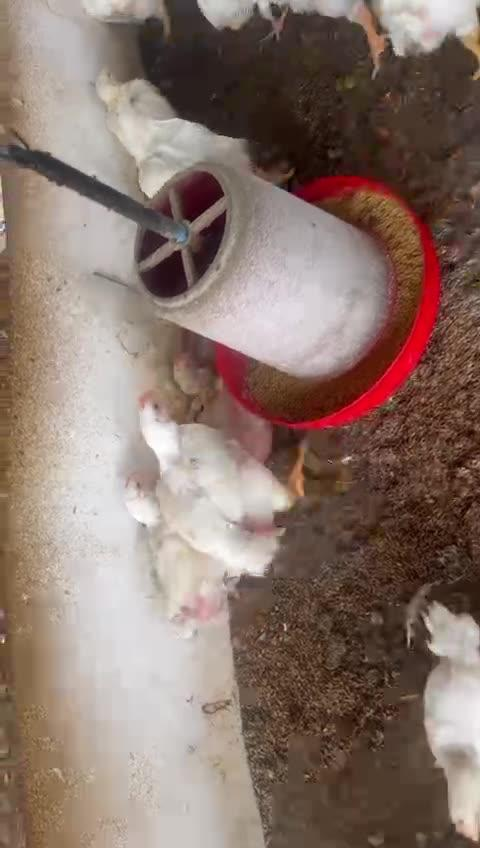AbNormal: (174, 345, 239, 453), (95, 62, 177, 131), (377, 477, 385, 482)
Normal: (137, 385, 301, 585), (124, 467, 246, 629), (117, 95, 277, 193), (420, 605, 480, 848), (374, 0, 480, 84), (275, 0, 393, 72), (190, 0, 289, 35), (72, 4, 176, 33)
